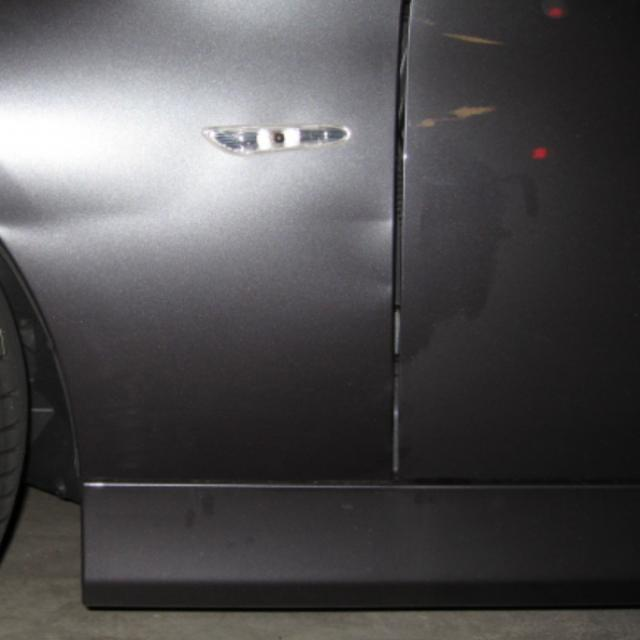dents: (469, 157, 570, 333), (0, 162, 158, 257), (313, 271, 445, 336), (307, 204, 429, 239)
